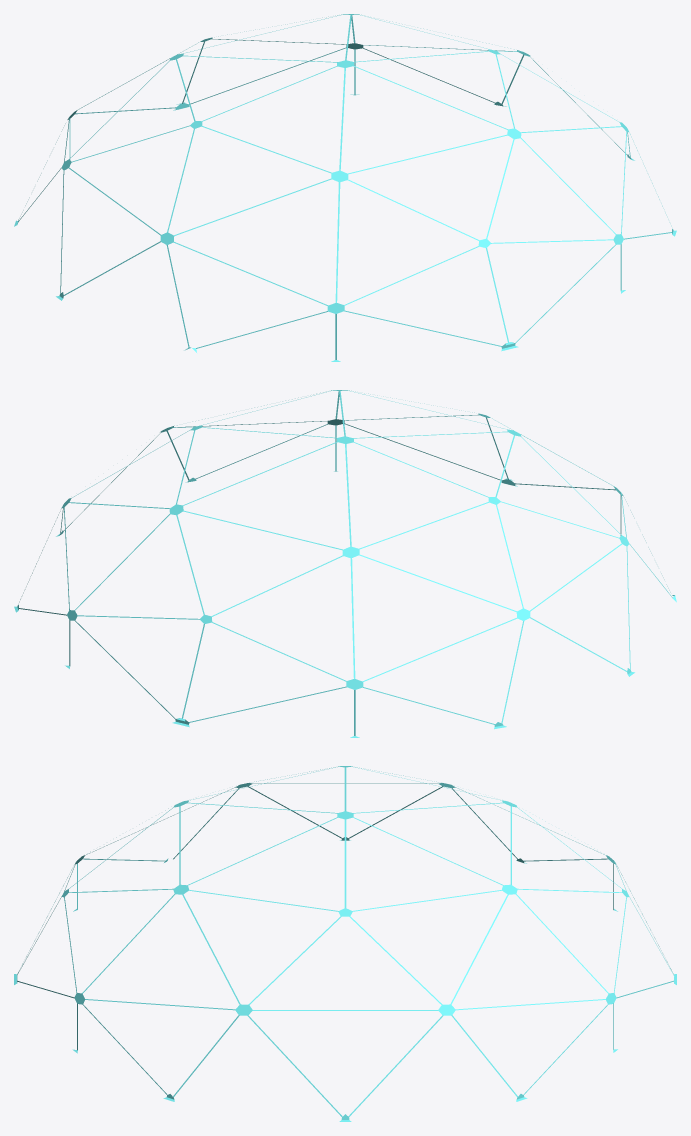
The model's file is Roof_WindowSphereGrid_01.fbx.
3 renders of one model, top to bottom at view 1: azimuth 30°, elevation 25°; view 2: azimuth 150°, elevation 25°; view 3: azimuth 270°, elevation 25°, orthographic.
Parts seen in each view (by area): view 1: Roof_WindowSphereGrid_01; view 2: Roof_WindowSphereGrid_01; view 3: Roof_WindowSphereGrid_01.
Boxes of the visible parts, left/top/right/bottom form: Roof_WindowSphereGrid_01: left=14, top=14, right=676, bottom=361; Roof_WindowSphereGrid_01: left=14, top=390, right=676, bottom=737; Roof_WindowSphereGrid_01: left=14, top=766, right=676, bottom=1121.
Bounding box in the file's own units: 39.78 × 10.9 × 39.54.
